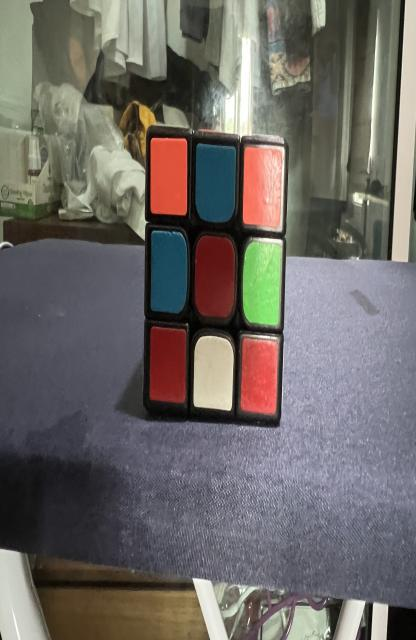Blue: (195, 143, 236, 223), (150, 230, 188, 313)
Green: (242, 240, 281, 327)
Orange: (243, 147, 282, 228), (150, 138, 188, 215)
Red: (194, 235, 235, 318), (240, 337, 278, 415), (150, 327, 186, 403)
White: (193, 335, 234, 412)
